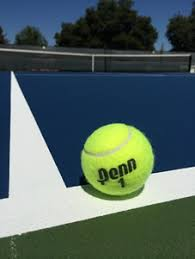tennis_ball: (80, 123, 154, 196)
